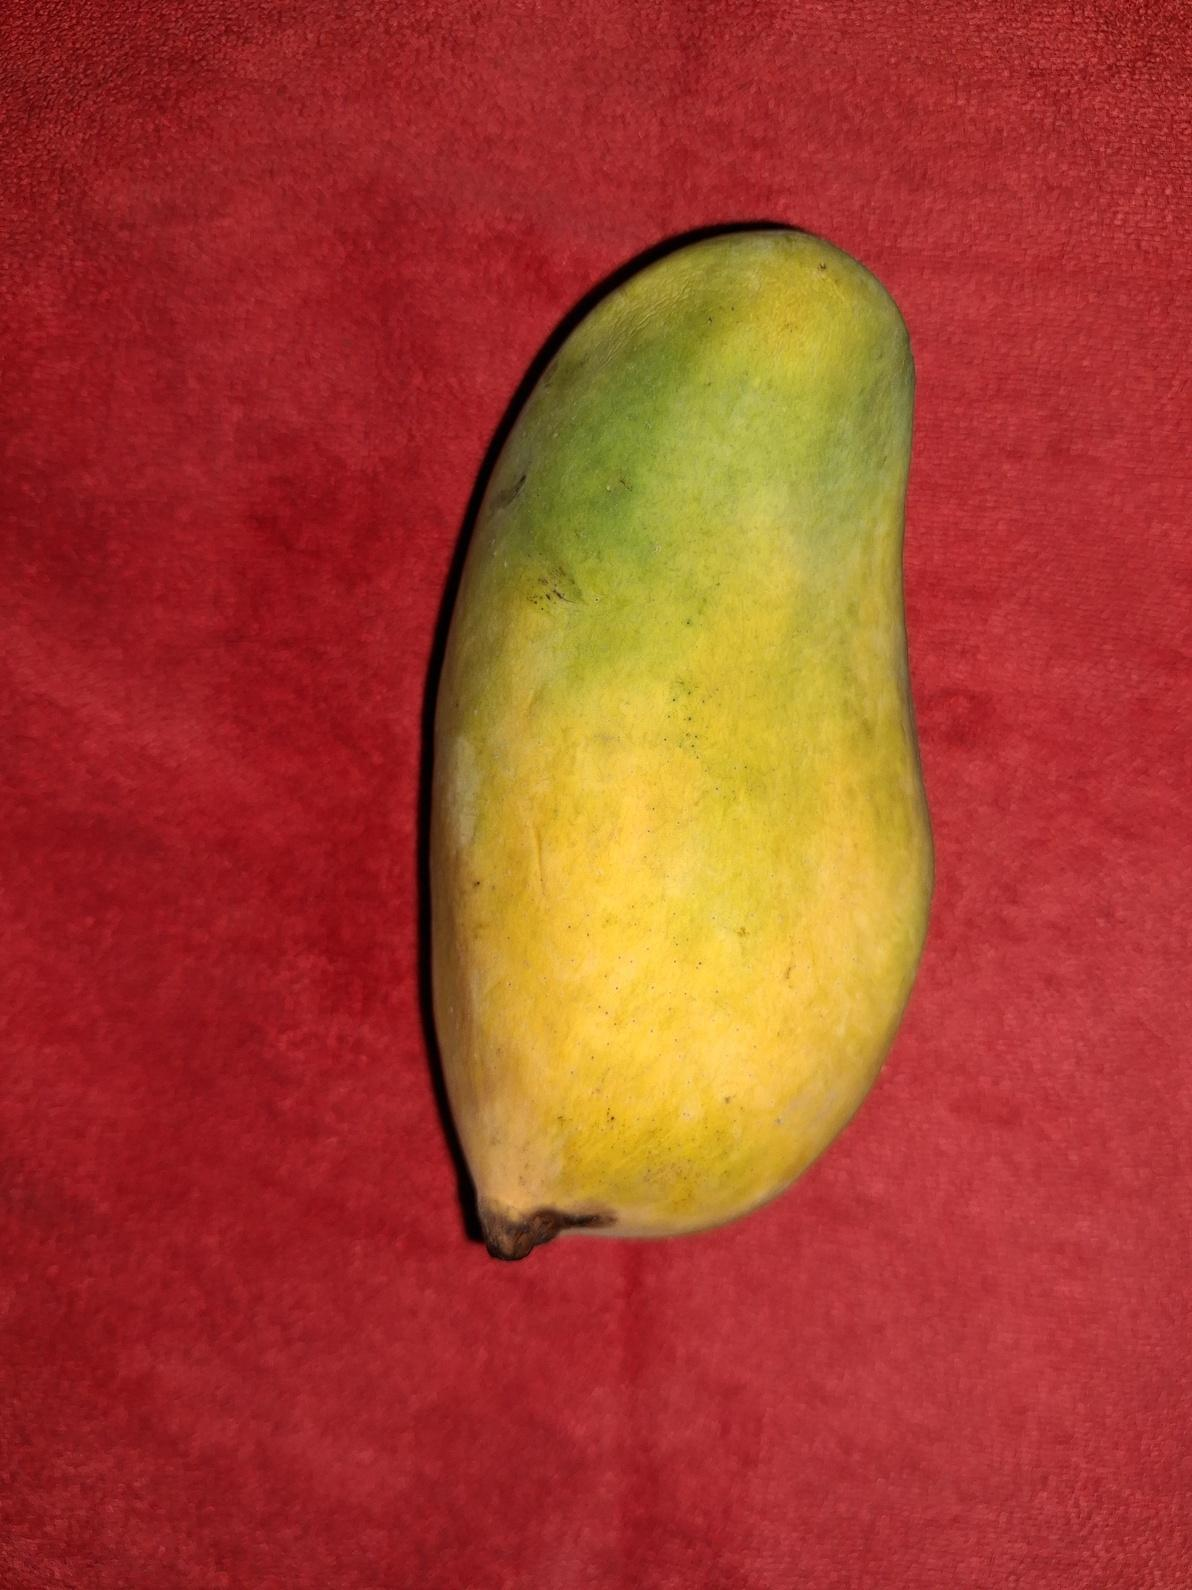mango: (426, 222, 935, 1259)
